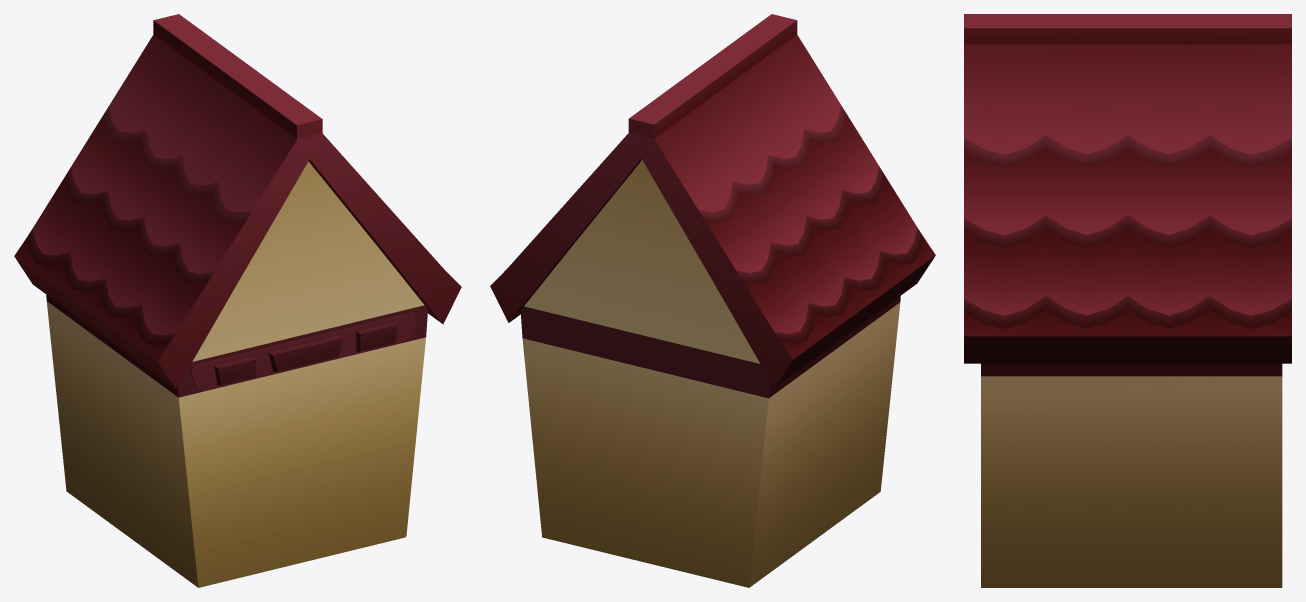
The model's file is Building_Main_02C.fbx.
The picture shows the model from 3 angles, left to right: view 1: azimuth 30°, elevation 25°; view 2: azimuth 150°, elevation 25°; view 3: azimuth 270°, elevation 25°; orthographic projection. The views are drawn at different scales.
Parts seen in each view (by area): view 1: Building_Main_02C; view 2: Building_Main_02C; view 3: Building_Main_02C.
Part boxes in pixels (x1,y1,x2,y2): Building_Main_02C: [14, 14, 461, 587]; Building_Main_02C: [490, 14, 935, 587]; Building_Main_02C: [964, 14, 1291, 587].
Bounding box in the file's own units: 585 × 819 × 478.
2 materials, 2 textured.
